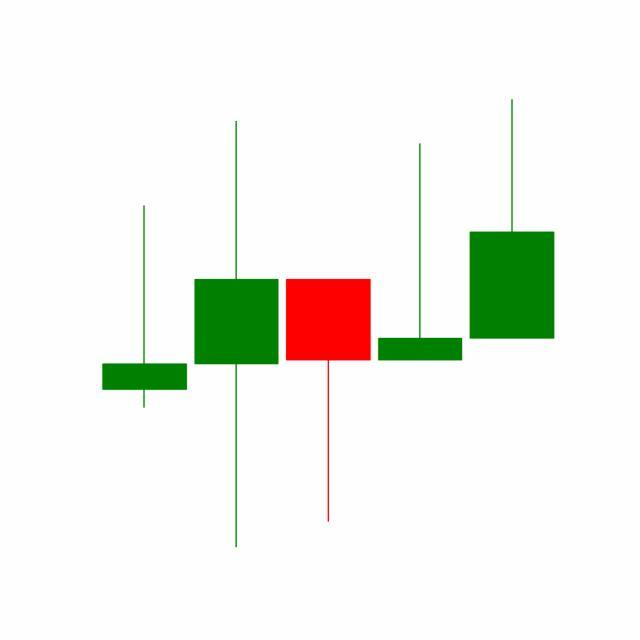Gravestone Doji: (374, 141, 468, 364)
